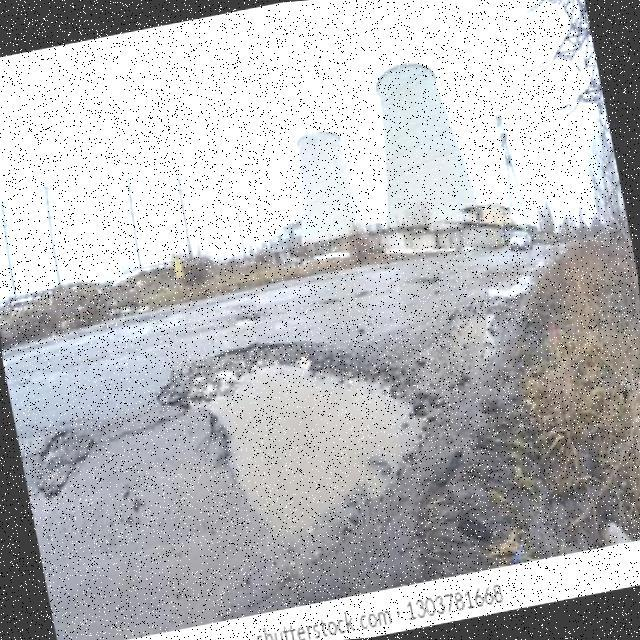Pothole: (158, 344, 430, 557)
